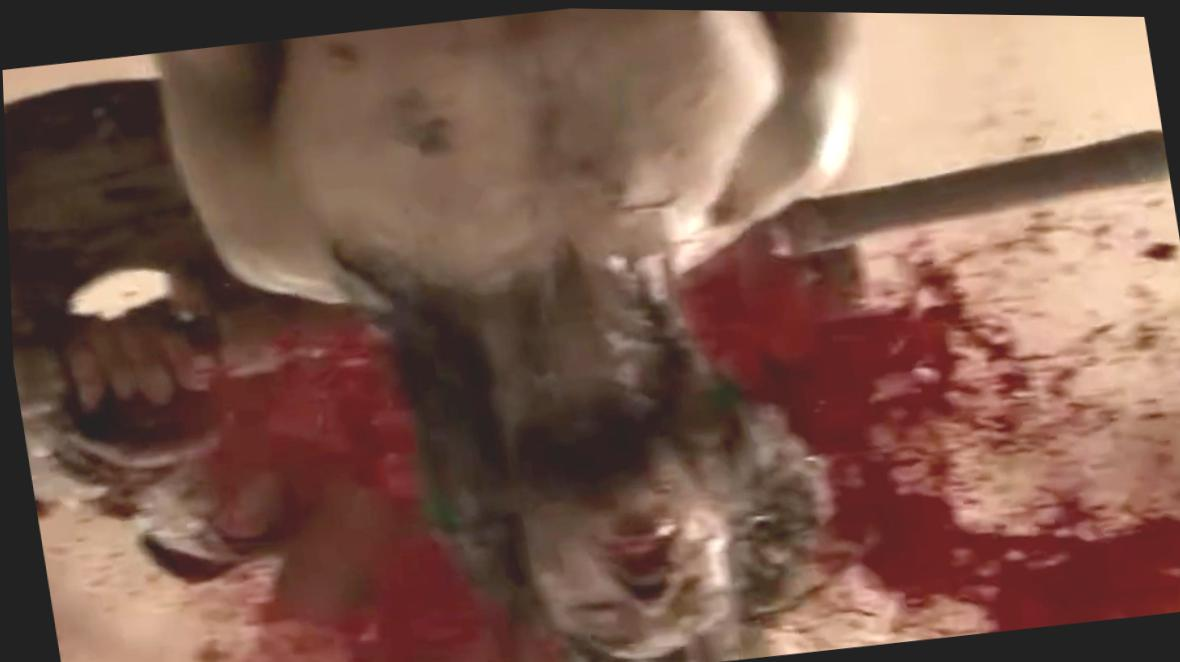Fire: (682, 178, 1180, 654), (34, 322, 558, 662)
